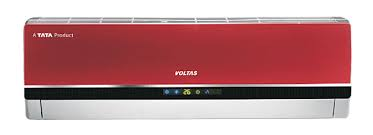ac: (21, 15, 353, 122)
